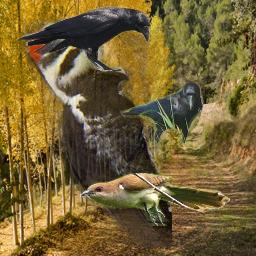Crow: (16, 6, 150, 72), (120, 82, 203, 147)
Cuckoo: (80, 173, 231, 226)
Woodpecker: (22, 19, 172, 247)
